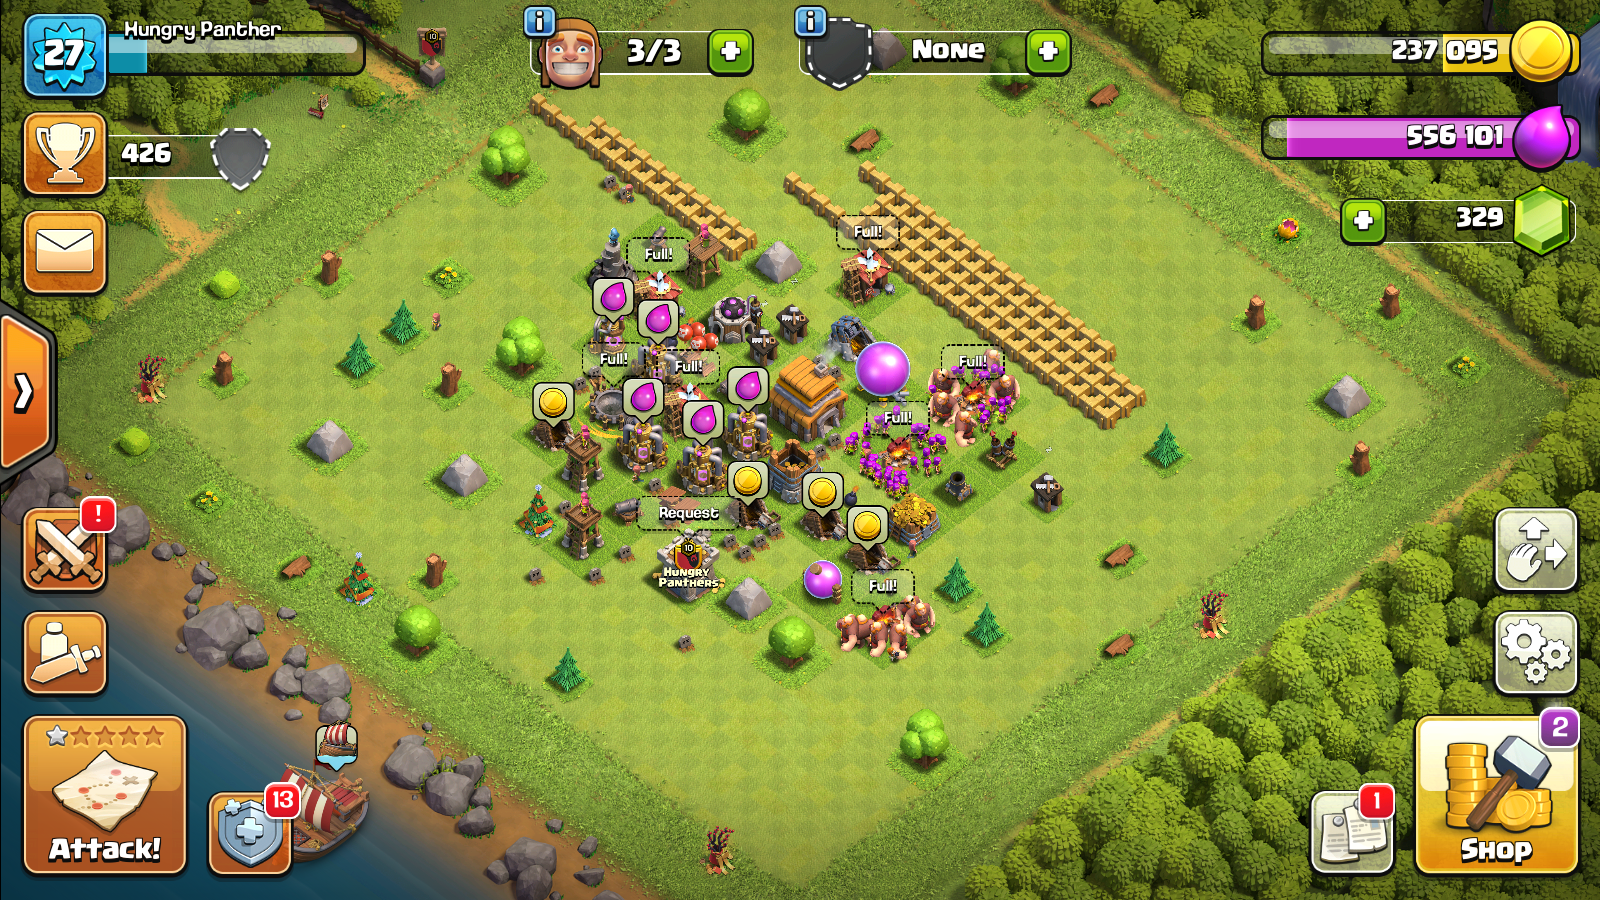elixer_available: (1511, 107, 1581, 173)
elixer_collect: (684, 399, 726, 441), (593, 278, 635, 318), (727, 366, 767, 405), (624, 378, 664, 416), (641, 305, 676, 337)
gold_available: (1511, 22, 1580, 84)
gold_collect: (801, 474, 843, 511), (532, 385, 575, 421), (849, 509, 888, 544), (730, 462, 770, 495)
start_attack: (27, 720, 187, 877)
